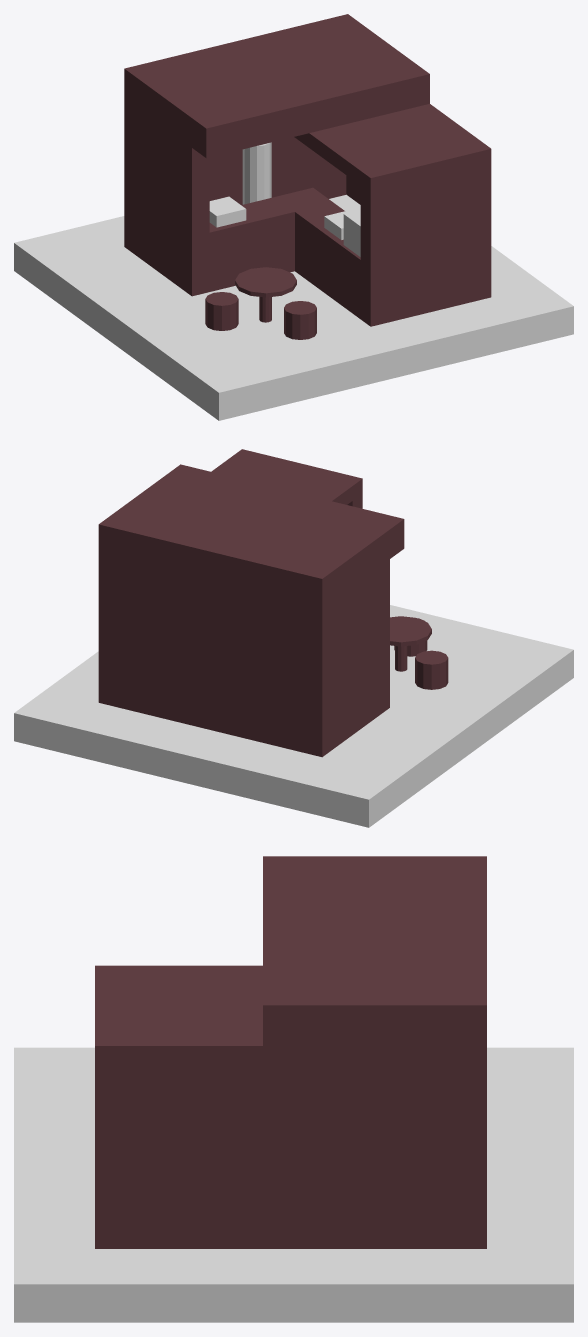
Rendered from cafe_v001.glb.
3 views of the same model, one above another, from view 1: azimuth 30°, elevation 25°; view 2: azimuth 150°, elevation 25°; view 3: azimuth 270°, elevation 25° (orthographic). The views are drawn at different scales.
Visible parts, largest first — view 1: mesh_floor, mesh_wall_roof, mesh_wall_right, mesh_wall_left, mesh_counter, mesh_wall_back, mesh_table, mesh_character, mesh_chair01, mesh_chair02, mesh_cashier, mesh_coffemachine; view 2: mesh_floor, mesh_wall_back, mesh_wall_roof, mesh_wall_left, mesh_wall_right, mesh_table, mesh_chair01; view 3: mesh_wall_back, mesh_floor, mesh_wall_roof, mesh_wall_right.
Part boxes in pixels (x1=…): mesh_floor: x1=14, y1=194, x2=573, y2=420; mesh_wall_roof: x1=124, y1=14, x2=476, y2=185; mesh_wall_right: x1=360, y1=142, x2=487, y2=326; mesh_wall_left: x1=126, y1=100, x2=209, y2=296; mesh_counter: x1=209, y1=187, x2=360, y2=318; mesh_wall_back: x1=124, y1=98, x2=491, y2=297; mesh_table: x1=235, y1=267, x2=296, y2=322; mesh_character: x1=242, y1=142, x2=271, y2=204; mesh_chair01: x1=205, y1=292, x2=238, y2=330; mesh_chair02: x1=284, y1=301, x2=316, y2=339; mesh_cashier: x1=209, y1=196, x2=246, y2=227; mesh_coffemachine: x1=343, y1=210, x2=360, y2=256; mesh_floor: x1=14, y1=605, x2=573, y2=827; mesh_wall_back: x1=98, y1=449, x2=324, y2=757; mesh_wall_roof: x1=98, y1=457, x2=404, y2=608; mesh_wall_left: x1=324, y1=559, x2=389, y2=755; mesh_wall_right: x1=235, y1=450, x2=362, y2=508; mesh_table: x1=390, y1=616, x2=431, y2=671; mesh_chair01: x1=415, y1=650, x2=448, y2=689; mesh_wall_back: x1=95, y1=1043, x2=486, y2=1248; mesh_floor: x1=14, y1=1047, x2=573, y2=1322; mesh_wall_roof: x1=123, y1=856, x2=486, y2=1045; mesh_wall_right: x1=95, y1=965, x2=122, y2=1043.
Size of the model in its own units: 1 by 0.5557 by 1.
